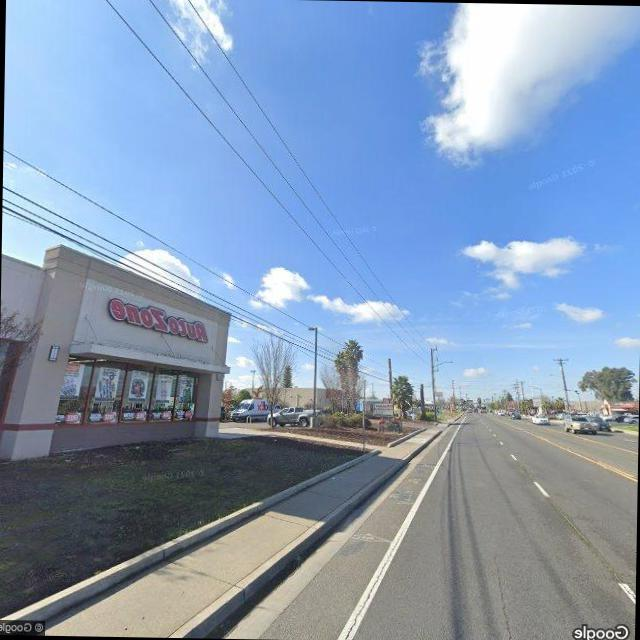pothole: (487, 548, 519, 640)
